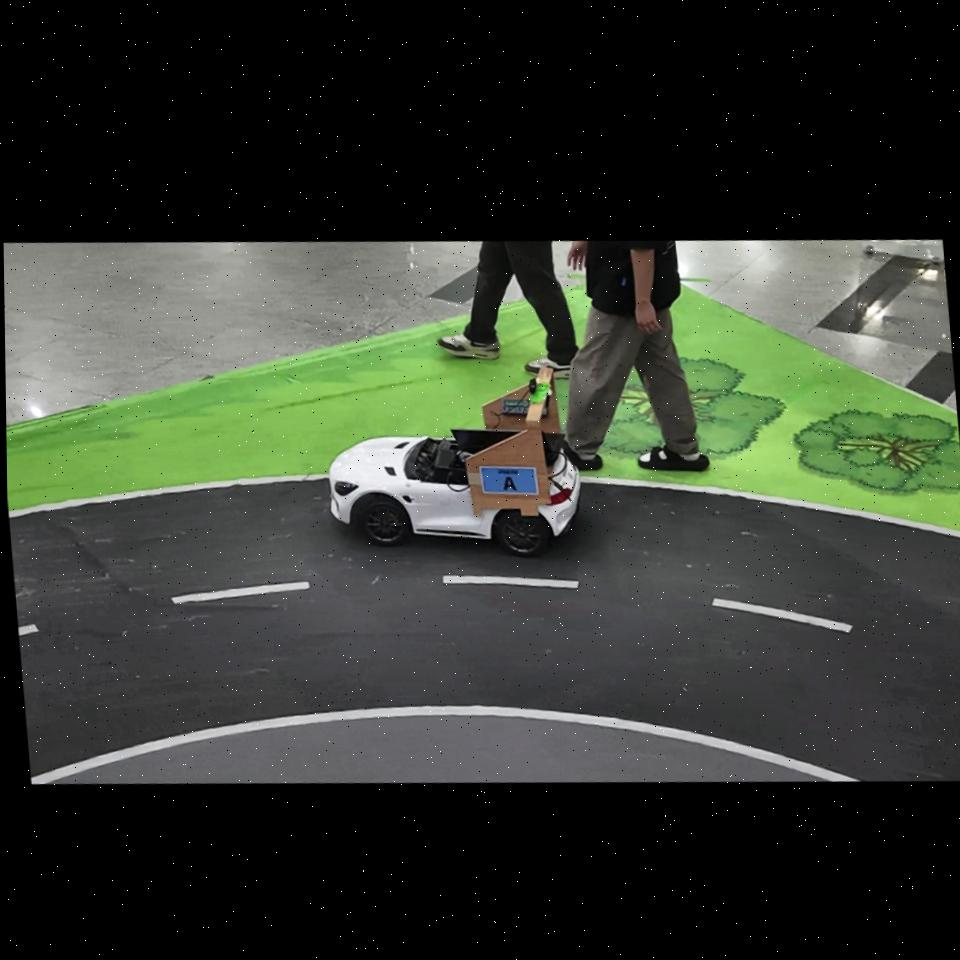broken_line: (711, 598, 854, 634), (171, 581, 310, 604), (443, 576, 579, 589), (18, 624, 39, 636)
